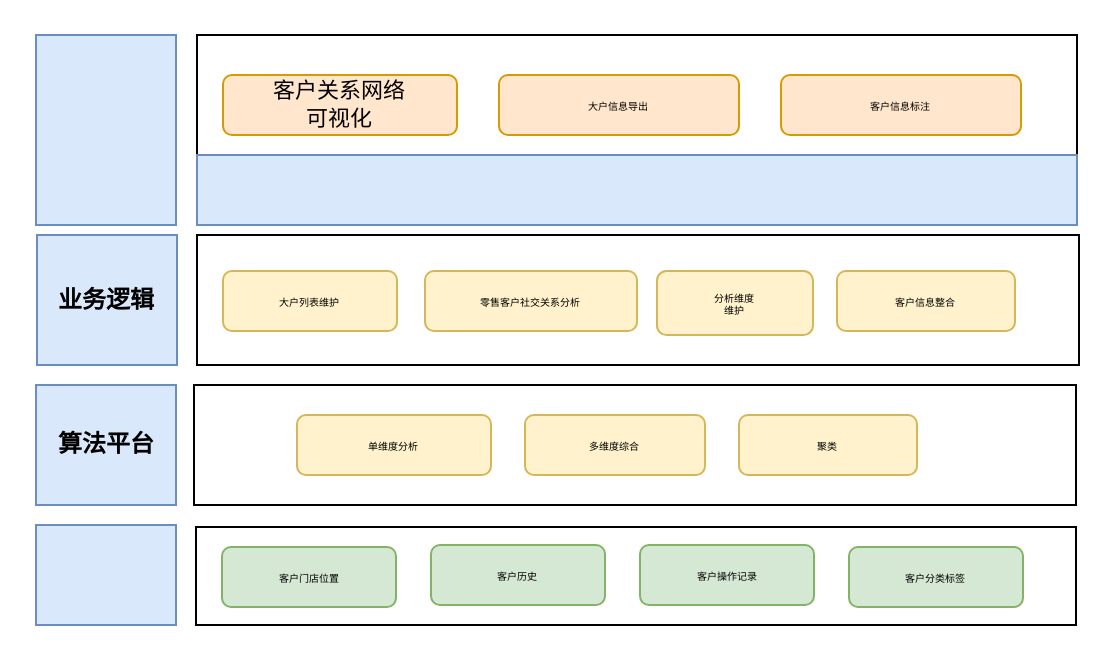
Some shapes in this 1114 by 660 pixel diagram are drawn without their labels. Here are the shapes that lost their labels. From the top down, the centre of each, then its label:
point 105,129: 表现层
point 636,189: 内管系统
point 105,574: 数据源
